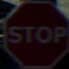Stop: (3, 3, 65, 57)
